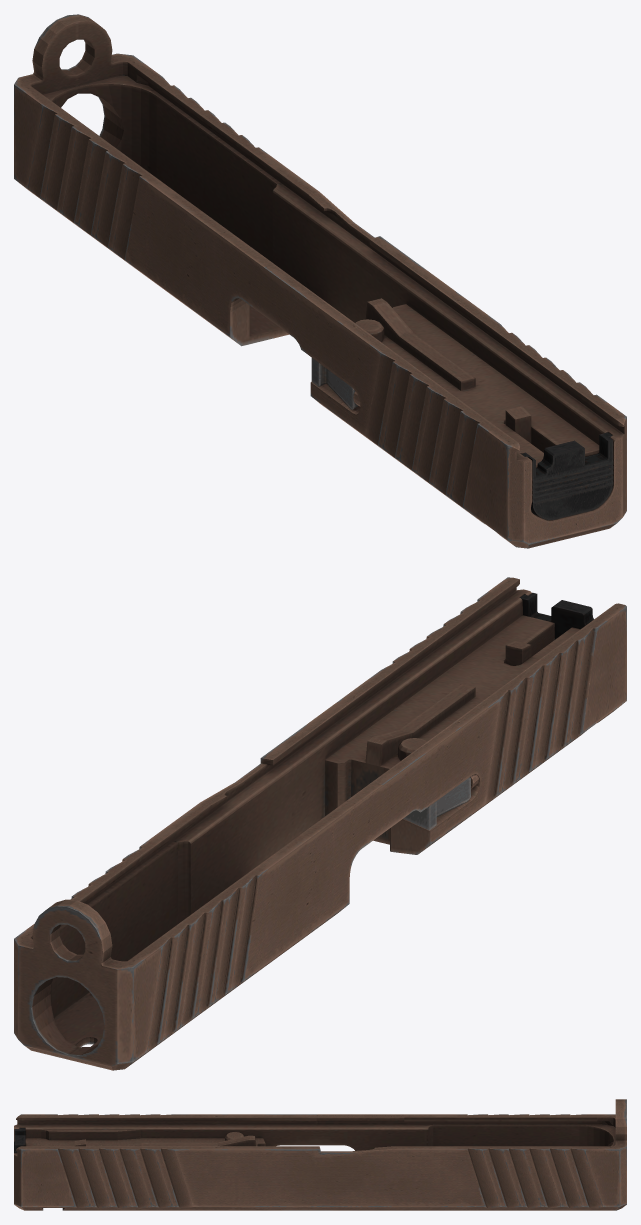
3 views of the same model, one above another, from view 1: azimuth 30°, elevation 25°; view 2: azimuth 150°, elevation 25°; view 3: azimuth 270°, elevation 25° (orthographic). The views are drawn at different scales.
Parts seen in each view (by area): view 1: TW_5a7afa25e899ef00135e31b0_PZ_Import; view 2: TW_5a7afa25e899ef00135e31b0_PZ_Import; view 3: TW_5a7afa25e899ef00135e31b0_PZ_Import.
Boxes of the visible parts, box(x1,y1,x2,y2) form: TW_5a7afa25e899ef00135e31b0_PZ_Import: box(14, 14, 626, 548); TW_5a7afa25e899ef00135e31b0_PZ_Import: box(14, 577, 626, 1070); TW_5a7afa25e899ef00135e31b0_PZ_Import: box(14, 1099, 626, 1210).
Bounding box in the file's own units: 0.0145 × 0.1058 × 0.0181.
Materials: 1 (1 with a texture image).
